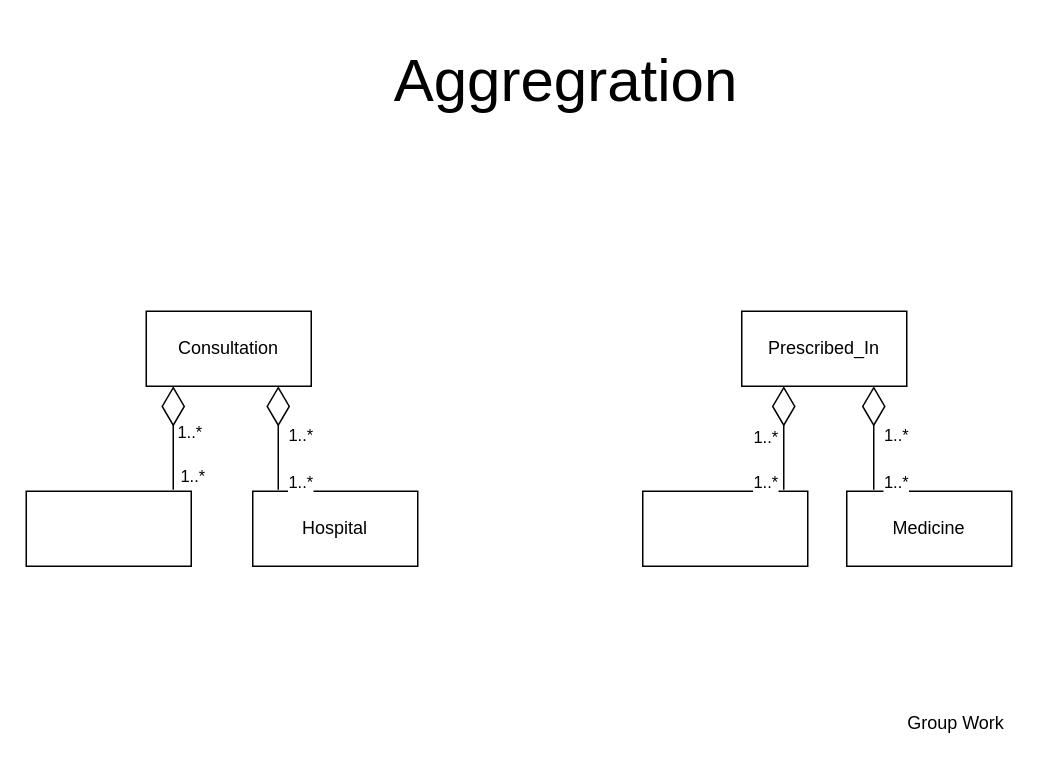
Some shapes in this 1058 by 771 pixel diagram are drawn without their labels. Each missing label, with the box of its shape:
Doctor: (25, 490, 191, 566)
Prescriptions: (641, 490, 808, 566)
